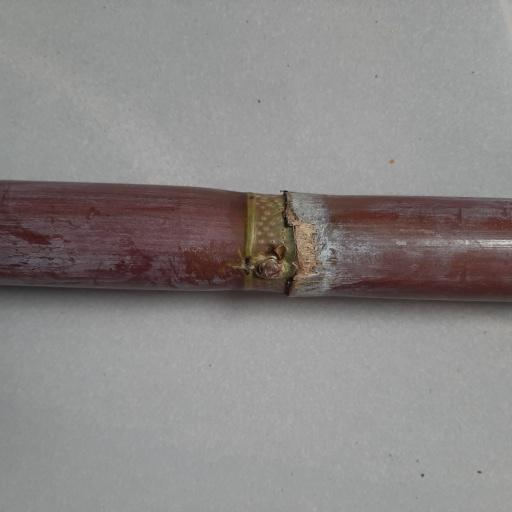Bud: (255, 257, 284, 278)
